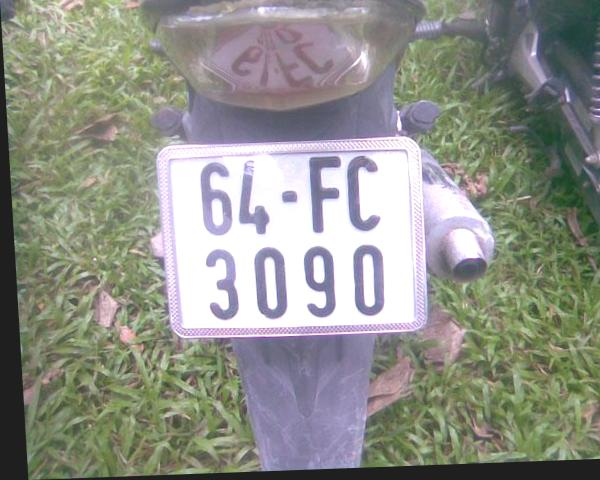License_Plate: (159, 138, 430, 338)
